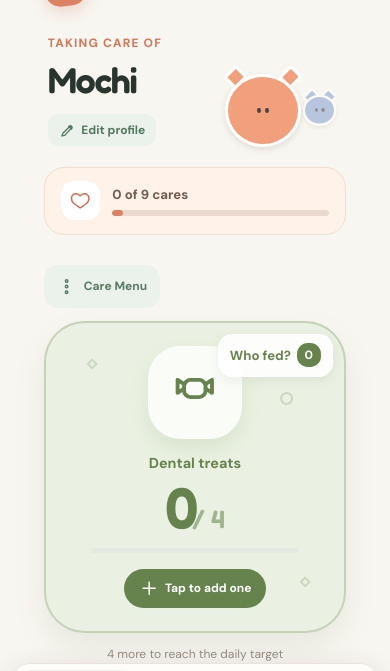
tracking and family navigation › cancels out added care entries that were undone from the visible activity
Click the button "Care Menu".
click(102, 286)  # box left=44, top=264, right=160, bottom=308
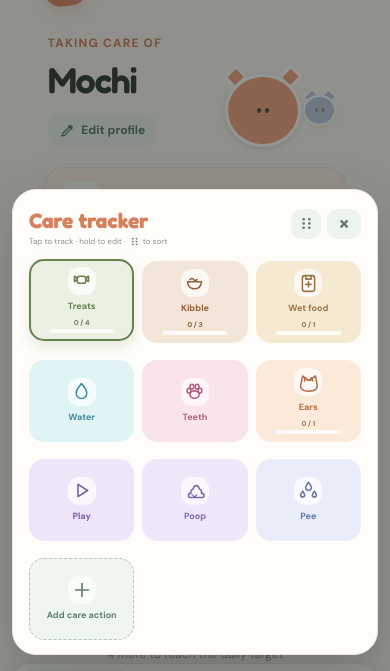
Click the button "Treats 0 / 4".
click(82, 300)  # box left=29, top=259, right=134, bottom=341
(page scrolled)
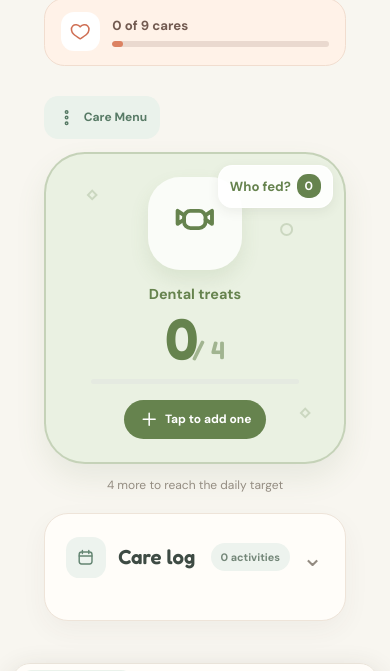
Click the button "Care log 0 activities ⌄".
click(195, 557)  # box left=66, top=534, right=324, bottom=580
(page scrolled)
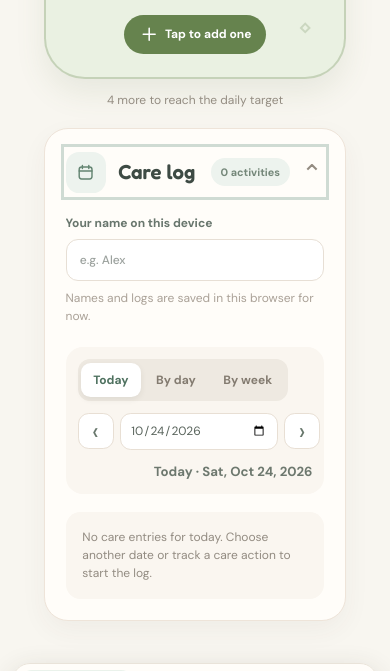
expect the text "No care entries for today" is shown: met, box left=66, top=512, right=324, bottom=599
